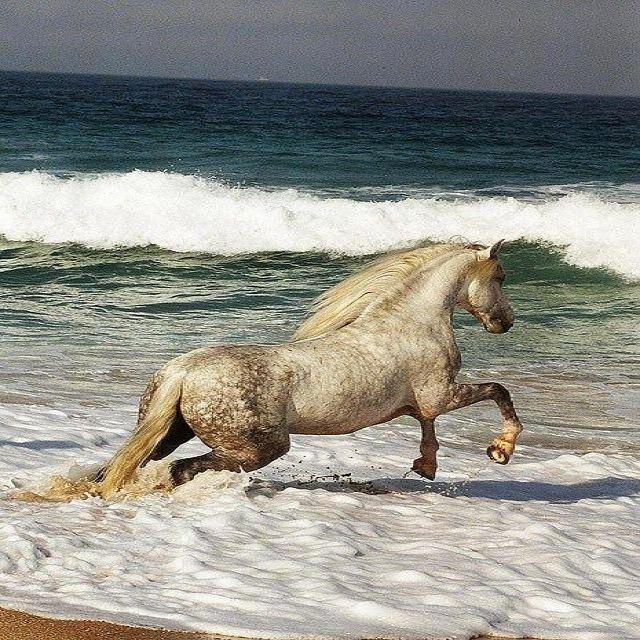horse: (158, 232, 546, 524)
